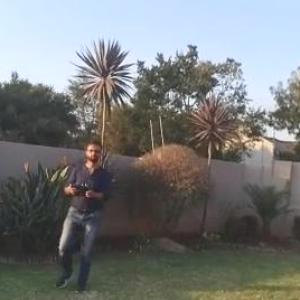follow: (40, 141, 106, 299)
